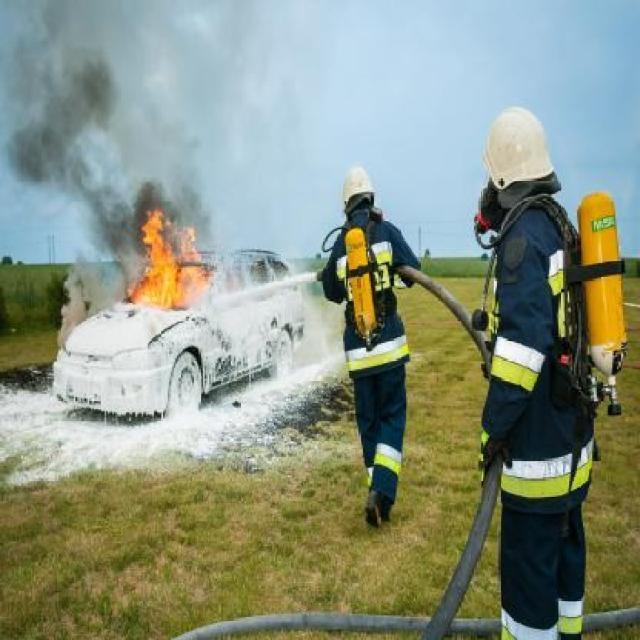Fire: (106, 196, 210, 308)
Smoke: (0, 0, 299, 198)
